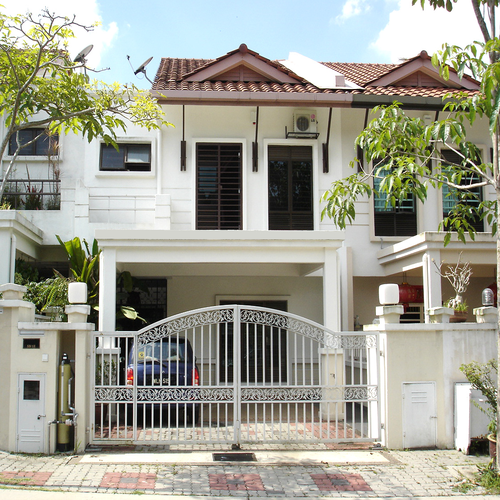Building House: (5, 41, 500, 444)
